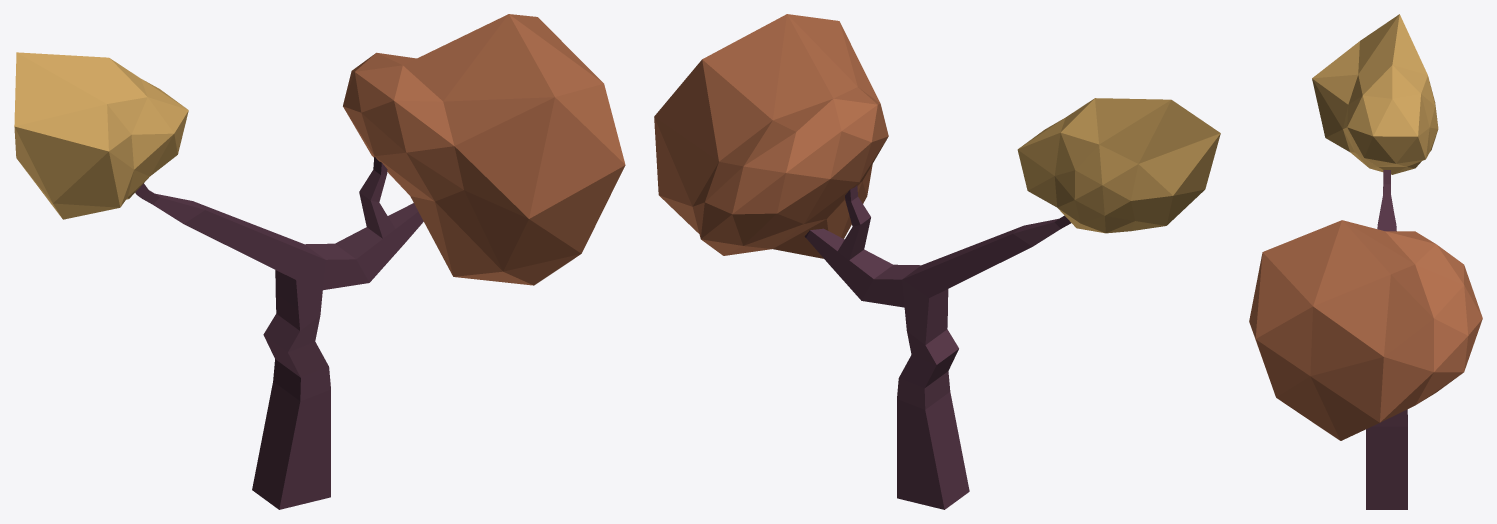
Rendered from tree_02.fbx.
3 renders of one model, left to right at view 1: azimuth 30°, elevation 25°; view 2: azimuth 150°, elevation 25°; view 3: azimuth 270°, elevation 25°, orthographic. The views are drawn at different scales.
Visible parts, largest first — view 1: Cube; view 2: Cube; view 3: Cube.
Boxes of the visible parts, x1,y1,x2,y2 form: Cube: (14, 14, 625, 509); Cube: (654, 14, 1220, 509); Cube: (1249, 14, 1482, 509).
Size of the model in its own units: 1164 by 928 by 509.
